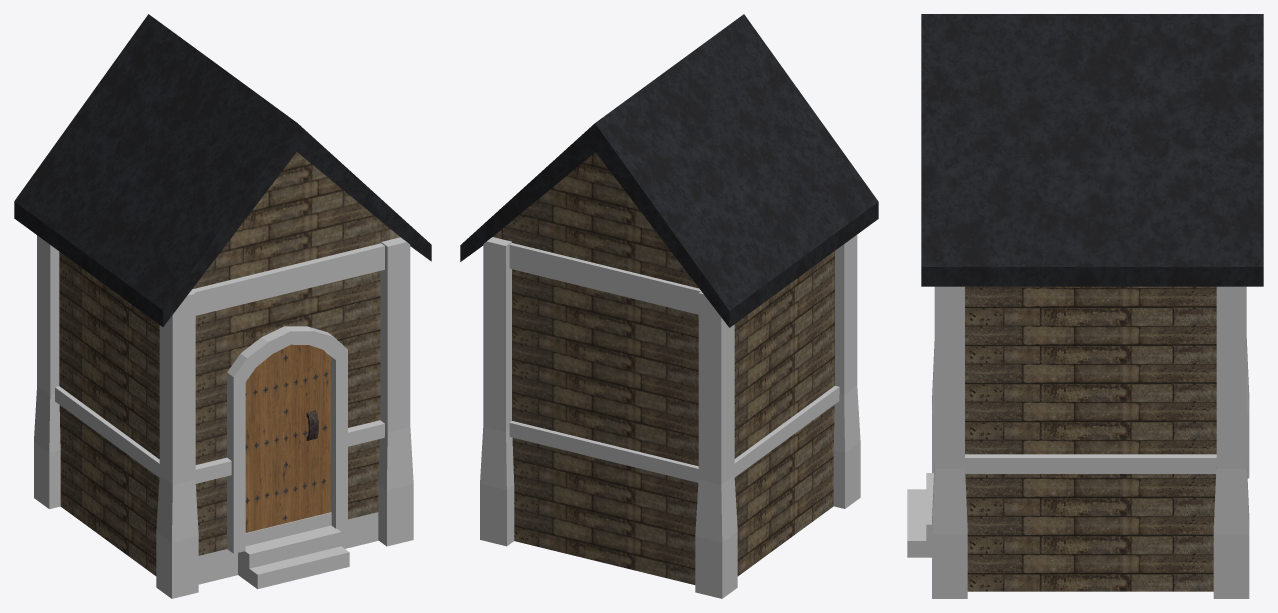
The model's file is Almacen.fbx.
3 renders of one model, left to right at view 1: azimuth 30°, elevation 25°; view 2: azimuth 150°, elevation 25°; view 3: azimuth 270°, elevation 25°, orthographic. The views are drawn at different scales.
Visible parts, largest first — view 1: ALMACÉN; view 2: ALMACÉN; view 3: ALMACÉN.
Part boxes in pixels (x1=…): ALMACÉN: x1=14, y1=14, x2=431, y2=598; ALMACÉN: x1=460, y1=14, x2=878, y2=598; ALMACÉN: x1=907, y1=14, x2=1263, y2=598.
Bounding box in the file's own units: 400 × 641 × 400.
